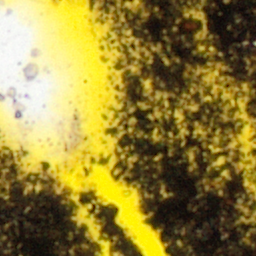cement_matrix: (93, 0, 255, 255), (0, 153, 97, 255), (81, 193, 141, 255), (174, 110, 183, 122), (143, 81, 151, 91), (215, 158, 223, 166), (192, 10, 200, 17), (213, 142, 218, 147), (198, 128, 202, 133), (159, 95, 163, 100)
cracks: (0, 0, 167, 255), (201, 67, 255, 196), (129, 0, 138, 8), (175, 111, 182, 121), (144, 82, 150, 90), (216, 159, 222, 165), (193, 11, 199, 16), (214, 143, 217, 146), (199, 129, 201, 132), (160, 96, 162, 99)
gravel_crushed_stones: (0, 0, 72, 142)
